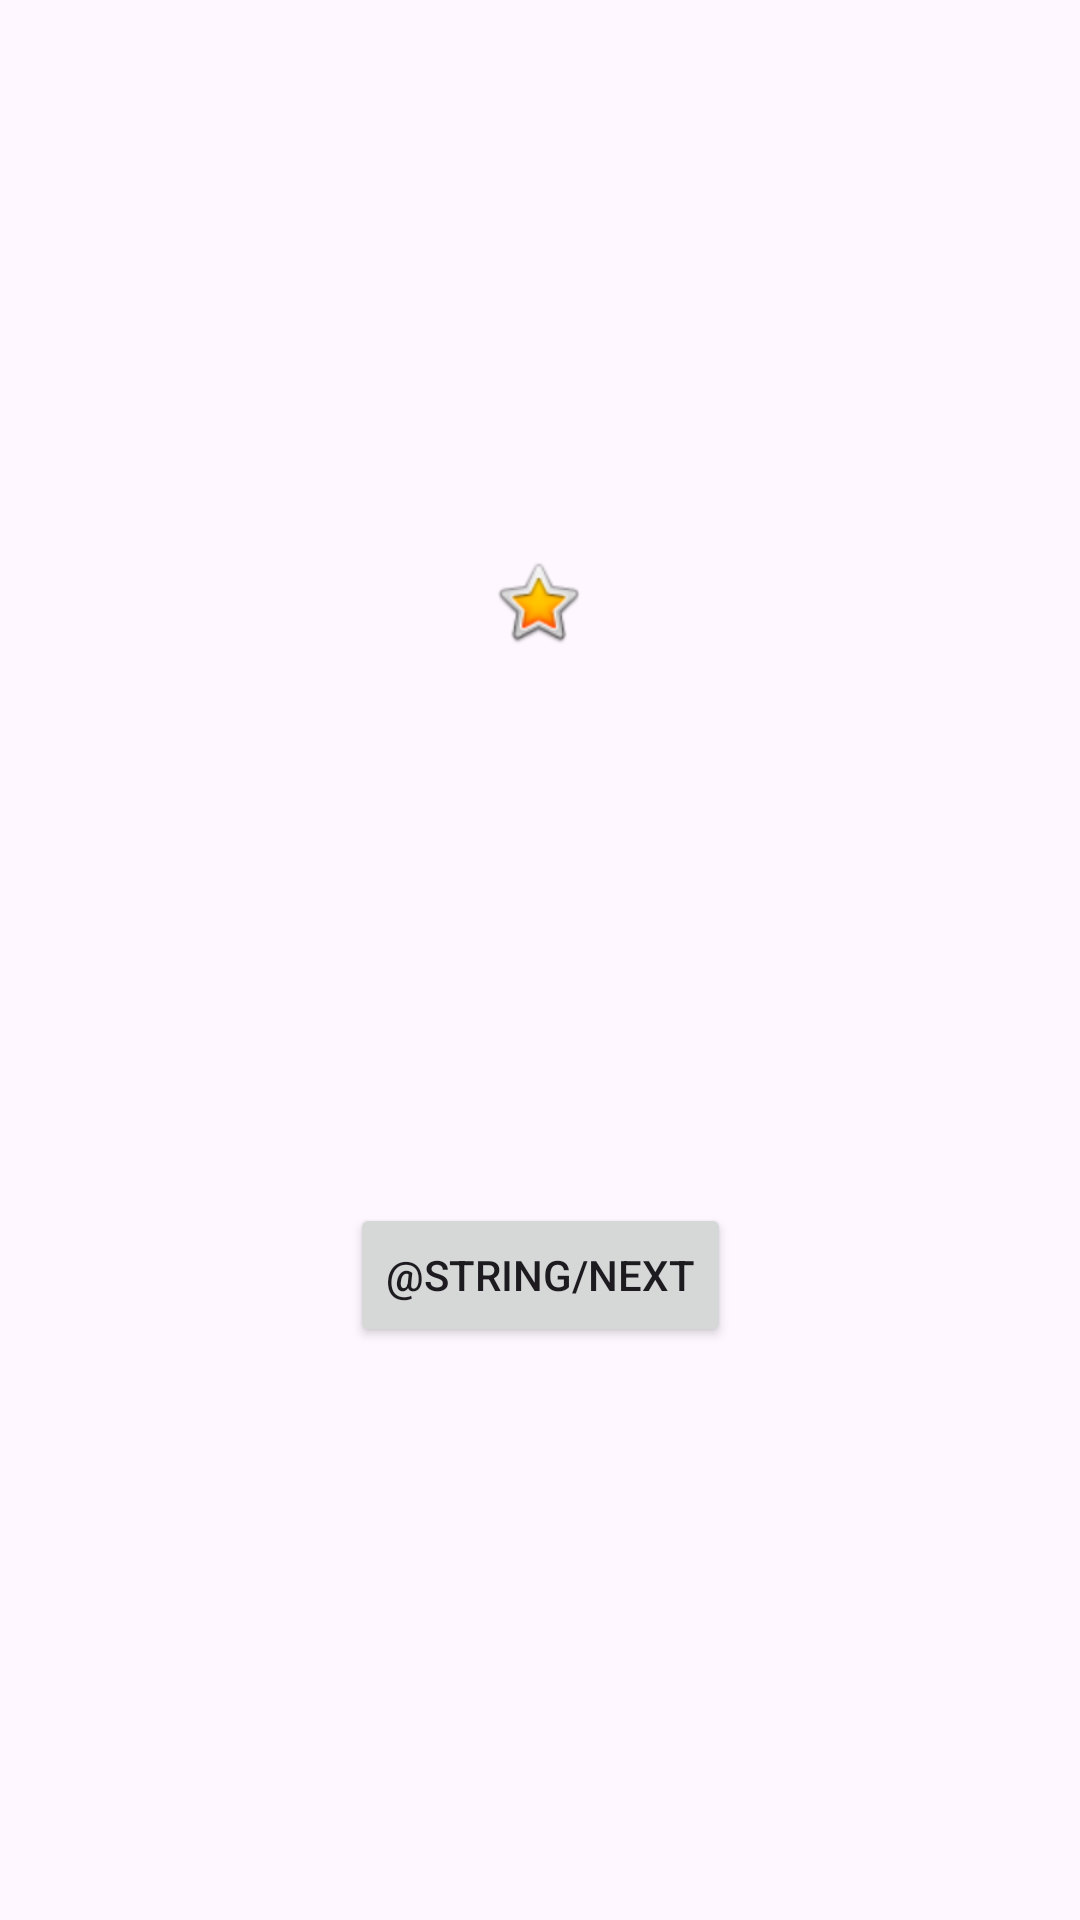

Locate icon controls on the screen. Image size 1080px×1920px, boxes as (x1, y1, x2, y2).
star on: (499, 564, 579, 642)
